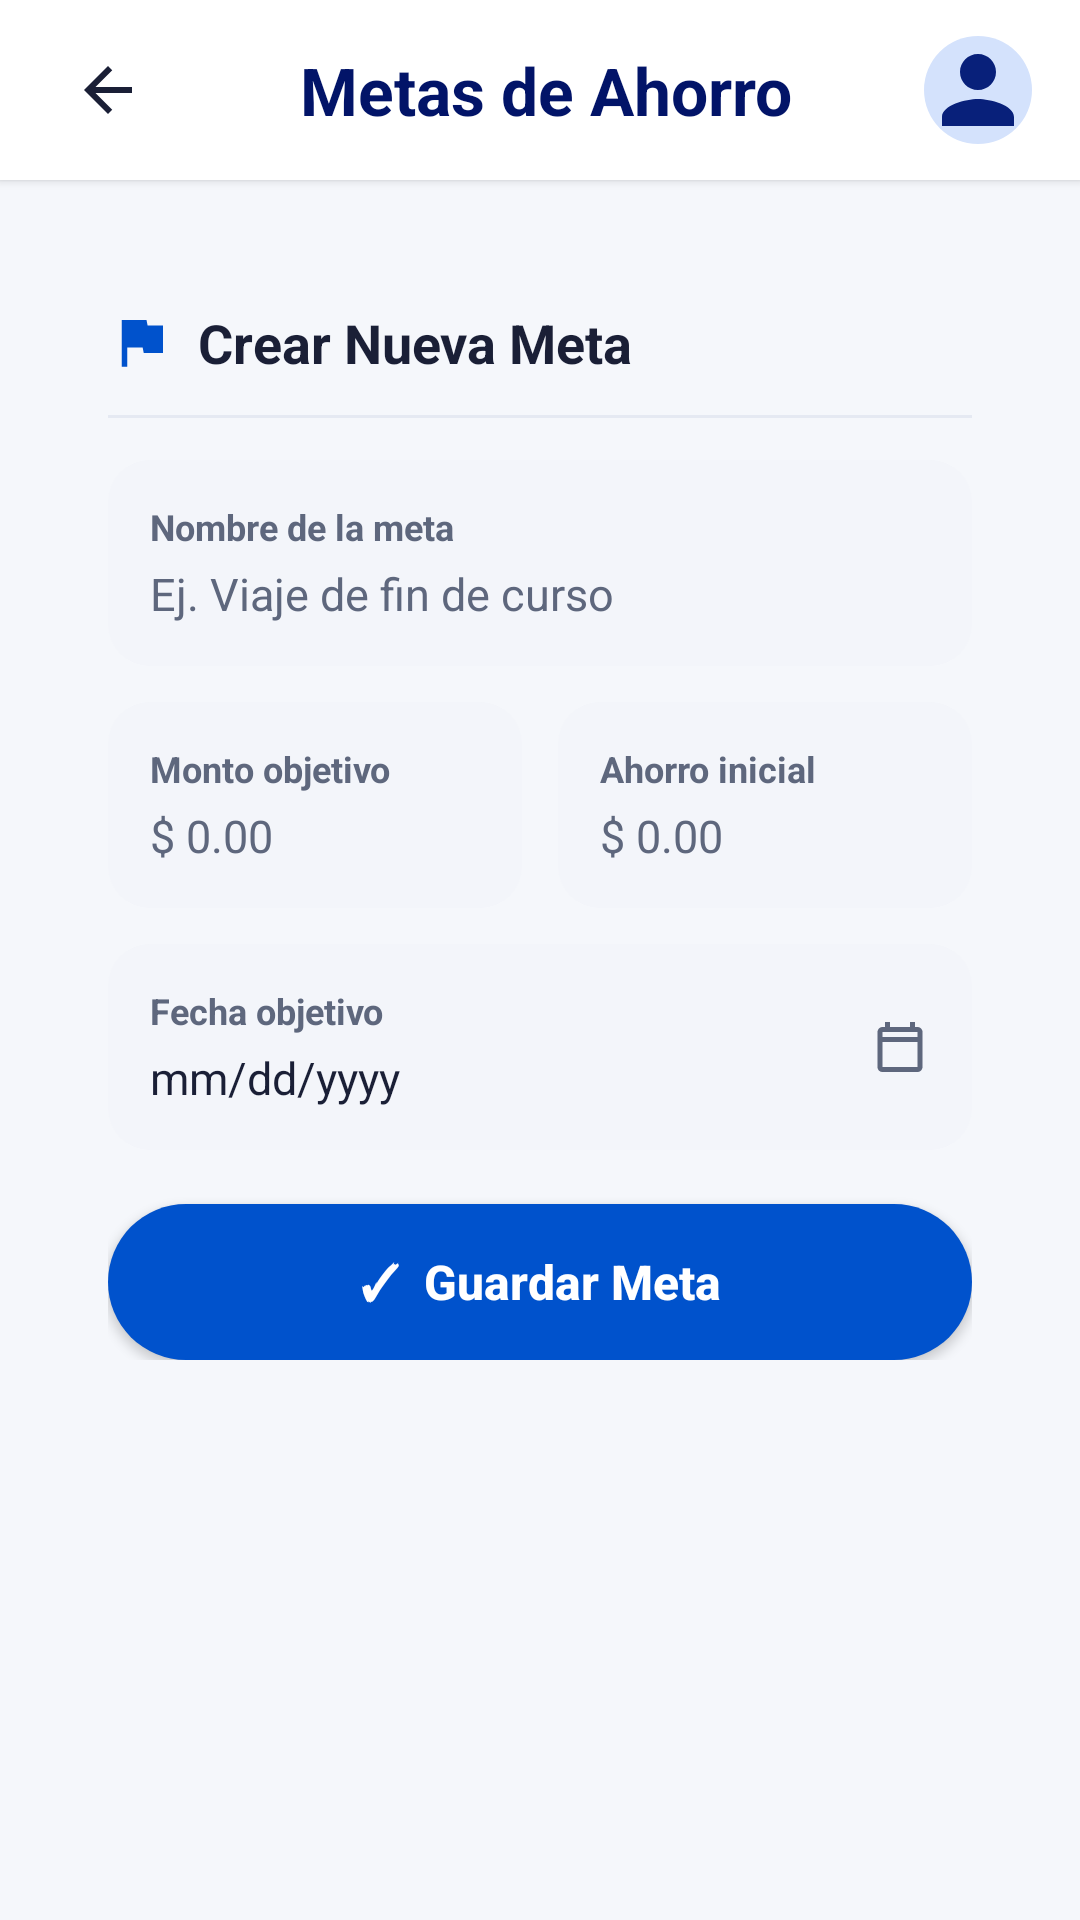

Icons on this 1080*1920 Android screen, each with its box as (x1, y1, x2, y2):
arrow back: (84, 66, 132, 114)
calendar: (877, 1022, 923, 1072)
flag: (121, 320, 163, 367)
